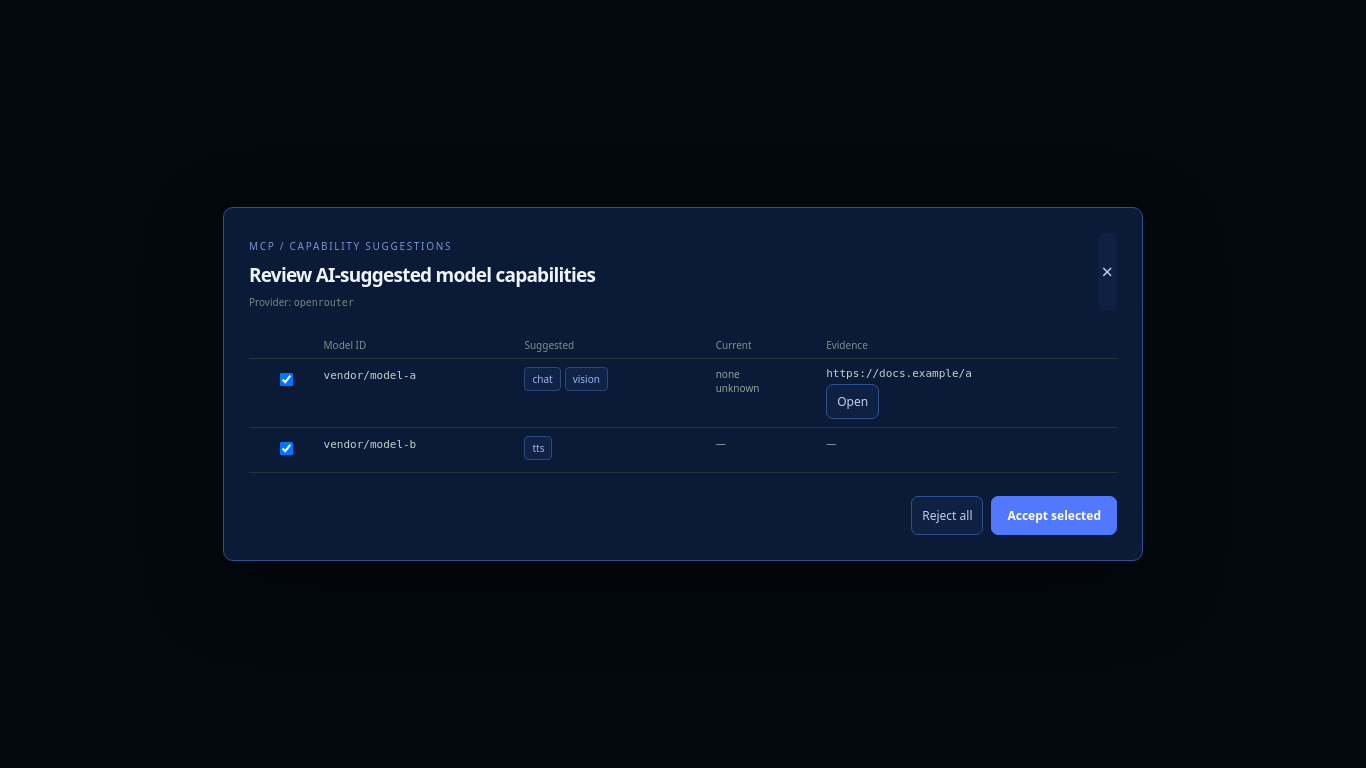
Test: CapabilitySuggestionModal › shows a backend failure and keeps the modal open
Step 1. Click the button "Accept selected" → (1054,516), box [992,496,1117,535]
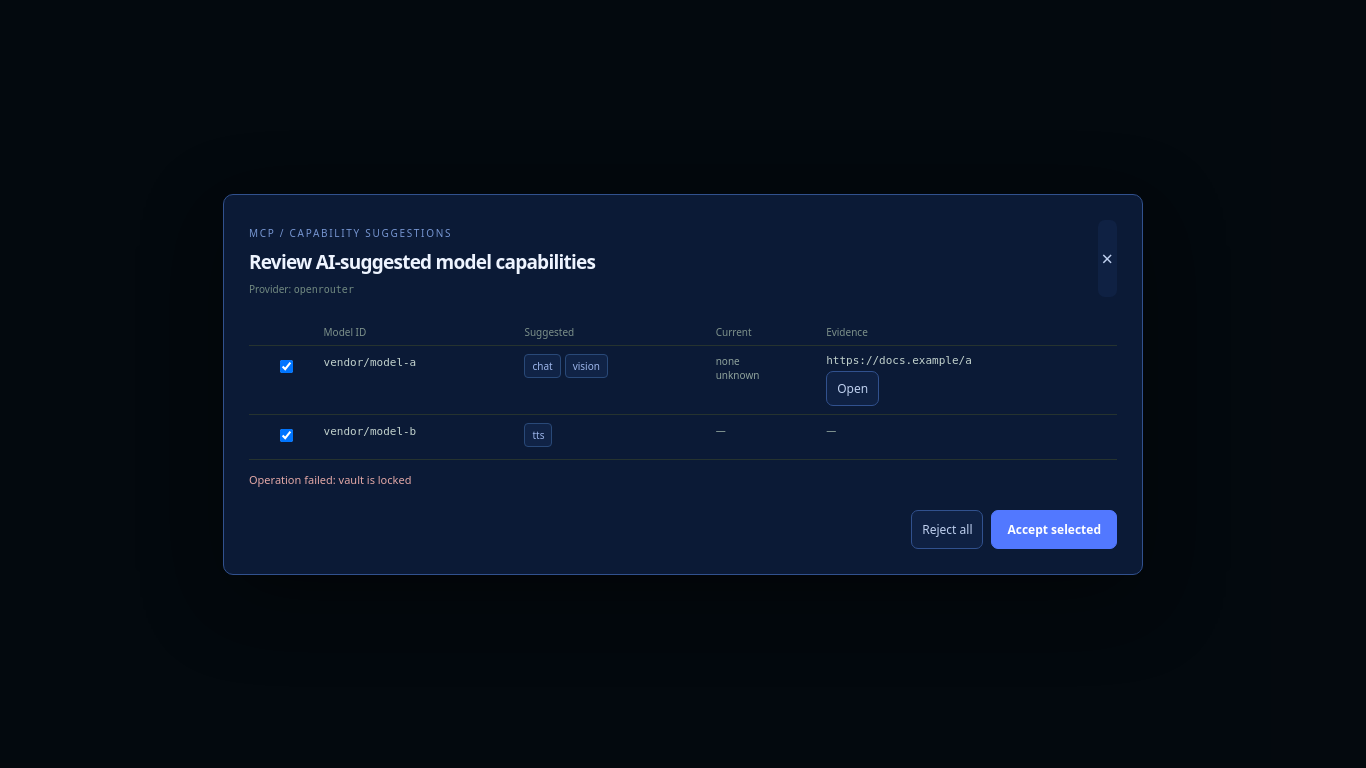
Result: the message shows "vault is locked" at [339,472,411,486]
